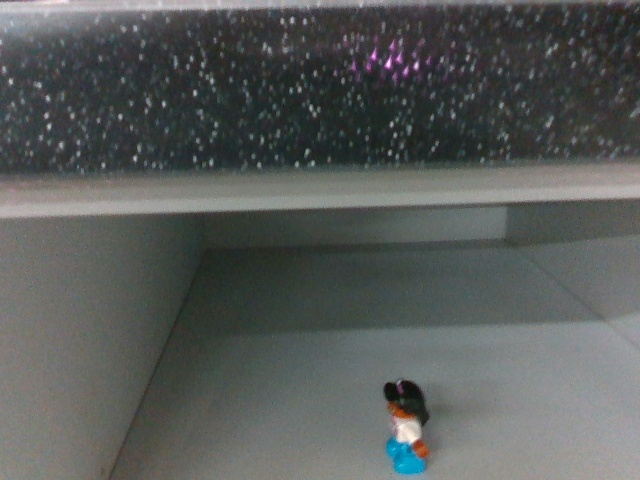people: (382, 379, 434, 475)
